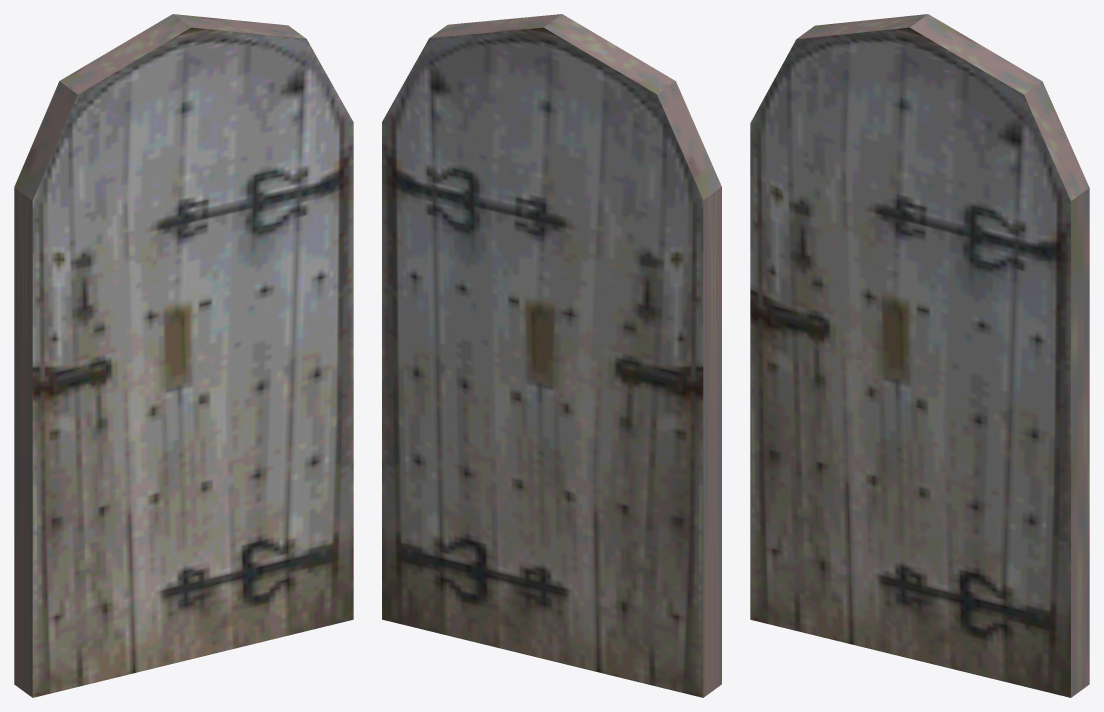
The model's file is door.glb.
3 renders of one model, left to right at view 1: azimuth 30°, elevation 25°; view 2: azimuth 150°, elevation 25°; view 3: azimuth 330°, elevation 25°, orthographic.
Visible parts, largest first — view 1: PSX Abandoned Church_Door_0.001; view 2: PSX Abandoned Church_Door_0.001; view 3: PSX Abandoned Church_Door_0.001.
Boxes of the visible parts, x1,y1,x2,y2 form: PSX Abandoned Church_Door_0.001: [14, 14, 353, 697]; PSX Abandoned Church_Door_0.001: [382, 14, 721, 697]; PSX Abandoned Church_Door_0.001: [750, 14, 1089, 697].
Bounding box in the file's own units: 1 × 1.88 × 0.1024.
1 material, 1 textured.
